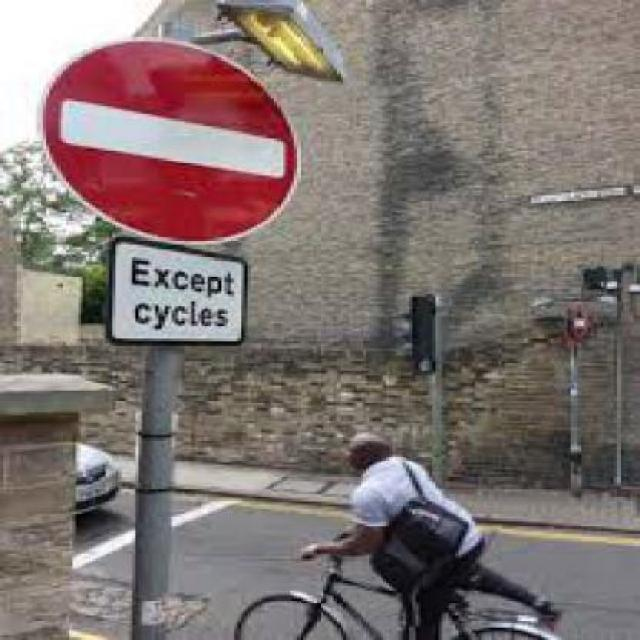Zakaz wjazdu: (39, 37, 301, 240)
